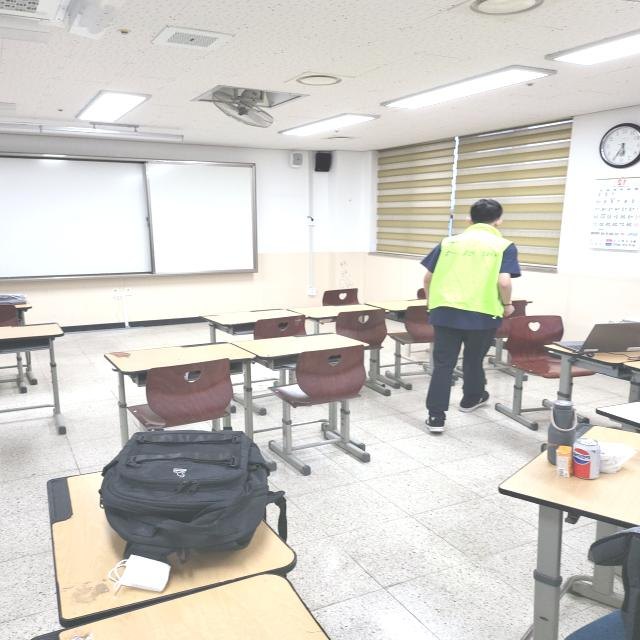weston_spy: (418, 218, 517, 323)
